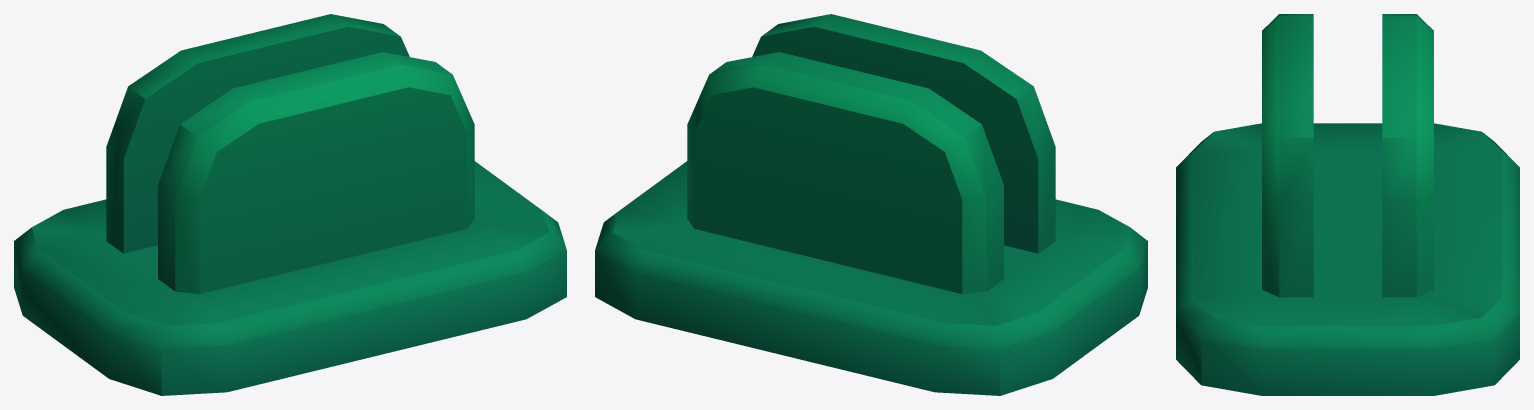
File: playerstand_green.obj
The picture shows the model from 3 angles, left to right: view 1: azimuth 30°, elevation 25°; view 2: azimuth 150°, elevation 25°; view 3: azimuth 270°, elevation 25°; orthographic projection.
Visible parts, largest first — view 1: playerstand_green; view 2: playerstand_green; view 3: playerstand_green.
Boxes of the visible parts, bbox=[...] form: playerstand_green: bbox=[14, 14, 566, 395]; playerstand_green: bbox=[595, 14, 1147, 395]; playerstand_green: bbox=[1176, 14, 1519, 395].
Size of the model in its own units: 0.75 by 0.375 by 0.5.
Materials: 1 (1 with a texture image).
